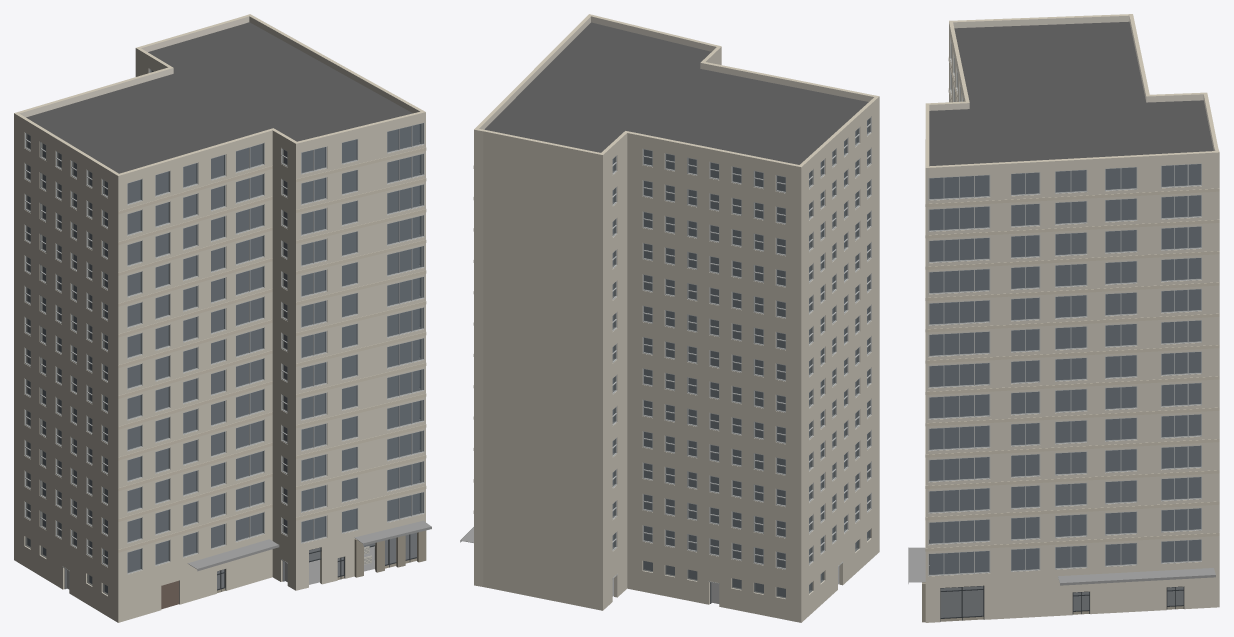
Rendered from exterior.glb.
3 renders of one model, left to right at view 1: azimuth 30°, elevation 25°; view 2: azimuth 150°, elevation 25°; view 3: azimuth 270°, elevation 25°, orthographic.
Parts seen in each view (by area): view 1: shell, glazing, shadow-proxy, roof, frames, relief-6, relief-4, storefront, awning-spans-4, awning-spans-6; view 2: shell, roof, glazing, frames, shadow-proxy; view 3: shell, glazing, shadow-proxy, roof, frames, relief-7, awning-spans-7, storefront, awning-spans-6, relief-6.
Boxes of the visible parts, box(x1,y1,x2,y2) form: shell: box(14, 14, 425, 622); glazing: box(25, 70, 423, 595); shadow-proxy: box(27, 71, 419, 593); roof: box(26, 22, 412, 173); frames: box(24, 69, 424, 574); relief-6: box(296, 147, 426, 577); relief-4: box(118, 165, 272, 552); storefront: box(62, 534, 416, 609); awning-spans-4: box(188, 539, 279, 571); awning-spans-6: box(354, 520, 431, 545); shell: box(474, 14, 879, 622); roof: box(484, 22, 868, 164); glazing: box(612, 118, 870, 598); frames: box(612, 116, 871, 569); shadow-proxy: box(612, 120, 867, 603); shell: box(925, 14, 1219, 622); glazing: box(929, 44, 1201, 617); shadow-proxy: box(930, 164, 1200, 617); roof: box(929, 21, 1213, 166); frames: box(928, 39, 1201, 576); relief-7: box(925, 188, 1219, 551); awning-spans-7: box(1058, 568, 1215, 585); storefront: box(929, 540, 1184, 621); awning-spans-6: box(908, 547, 925, 583); relief-6: box(922, 139, 925, 622).
Bounding box in the file's own units: 32 × 44.01 × 27.31.
